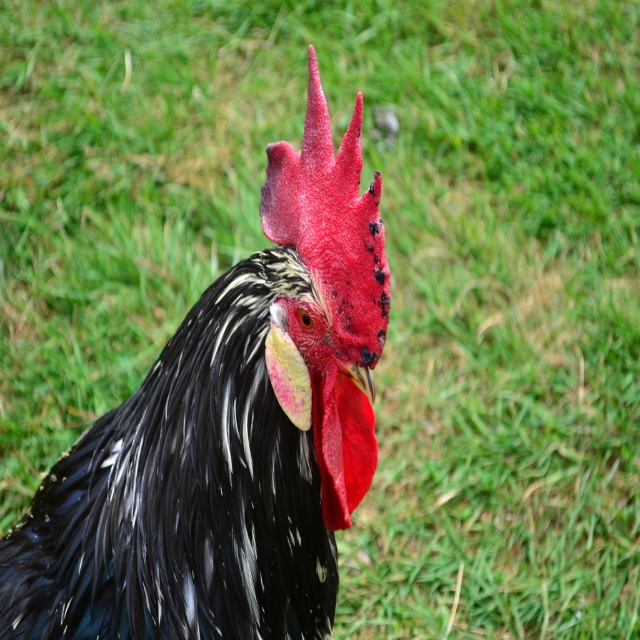Chicken: (0, 44, 391, 640)
